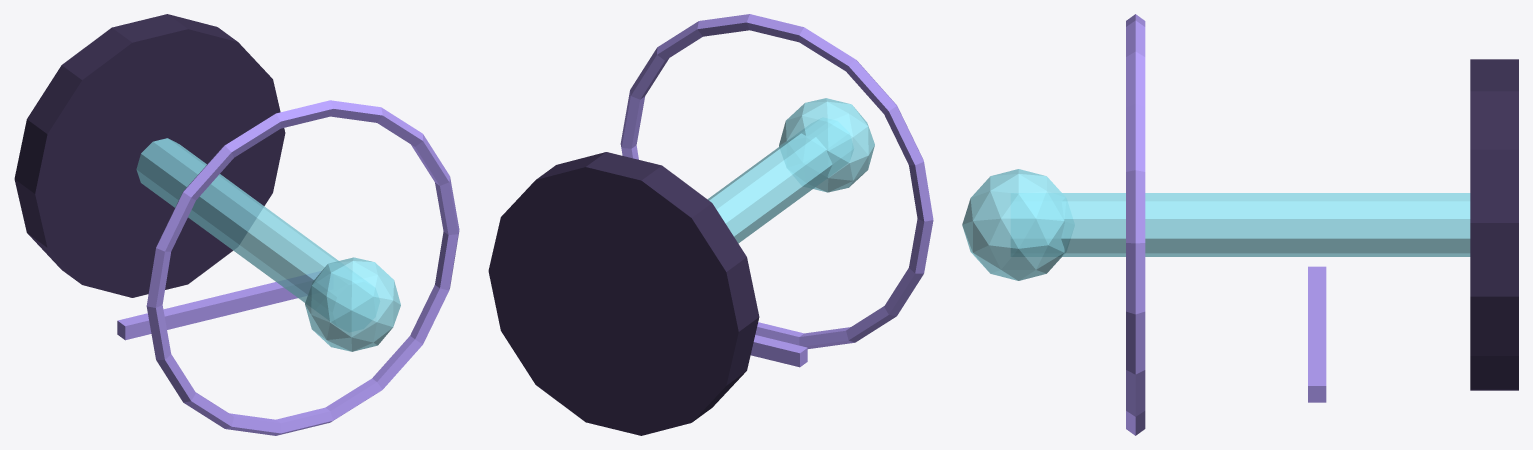
The model's file is 08_support_npc_assist_marker.glb.
The picture shows the model from 3 angles, left to right: view 1: azimuth 30°, elevation 25°; view 2: azimuth 150°, elevation 25°; view 3: azimuth 270°, elevation 25°; orthographic projection. The views are drawn at different scales.
Visible parts, largest first — view 1: assist_beacon_base, support_lock_ring, assist_column, npc_signal_core, support_direction_marker; view 2: assist_beacon_base, support_lock_ring, assist_column, npc_signal_core, support_direction_marker; view 3: assist_column, assist_beacon_base, npc_signal_core, support_lock_ring, support_direction_marker.
Part boxes in pixels (<box>): assist_beacon_base: <box>14,14,285,297</box>; support_lock_ring: <box>146,100,459,435</box>; assist_column: <box>136,138,338,302</box>; npc_signal_core: <box>305,257,400,351</box>; support_direction_marker: <box>117,271,320,340</box>; assist_beacon_base: <box>488,152,759,435</box>; support_lock_ring: <box>620,14,933,348</box>; assist_column: <box>707,133,832,243</box>; npc_signal_core: <box>779,98,874,192</box>; support_direction_marker: <box>750,335,807,367</box>; assist_column: <box>1061,193,1470,256</box>; assist_beacon_base: <box>1470,59,1518,390</box>; npc_signal_core: <box>962,169,1065,280</box>; support_lock_ring: <box>1126,14,1145,435</box>; support_direction_marker: <box>1308,266,1326,402</box>.
Size of the model in its own units: 1.05 by 1.03 by 1.38.
